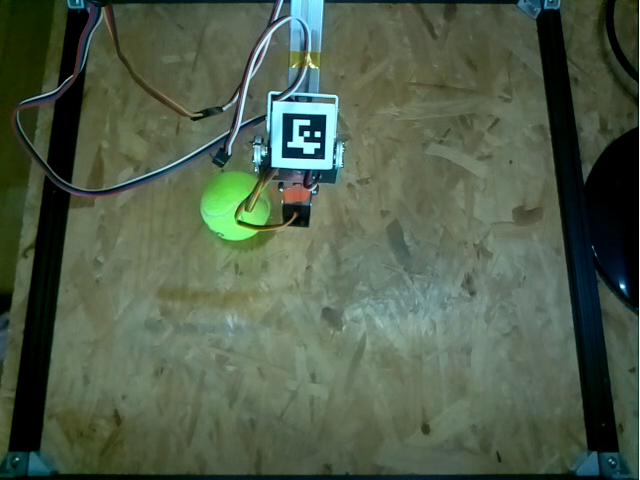tennis_ball: (198, 172, 271, 242)
